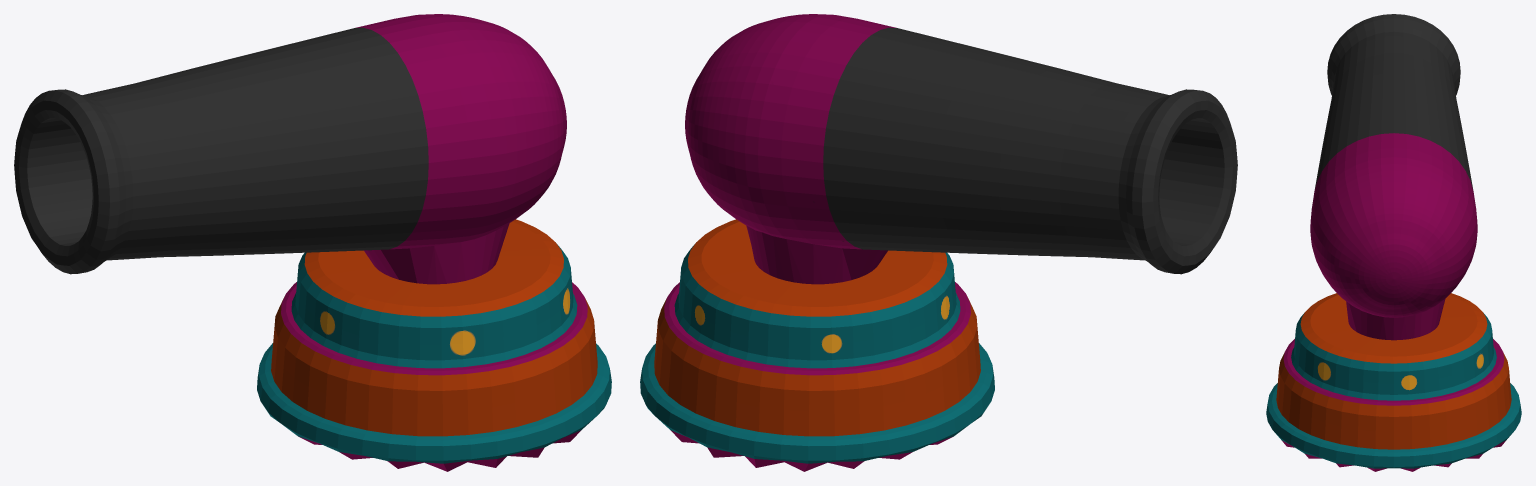
File: cannon.fbx
3 renders of one model, left to right at view 1: azimuth 30°, elevation 25°; view 2: azimuth 150°, elevation 25°; view 3: azimuth 270°, elevation 25°, orthographic. The views are drawn at different scales.
Parts seen in each view (by area): view 1: cannon1; view 2: cannon1; view 3: cannon1.
Boxes of the visible parts, x1,y1,x2,y2 form: cannon1: (14, 14, 611, 471); cannon1: (640, 14, 1237, 471); cannon1: (1266, 14, 1521, 471).
Bounding box in the file's own units: 1.89 × 1.32 × 1.08.
